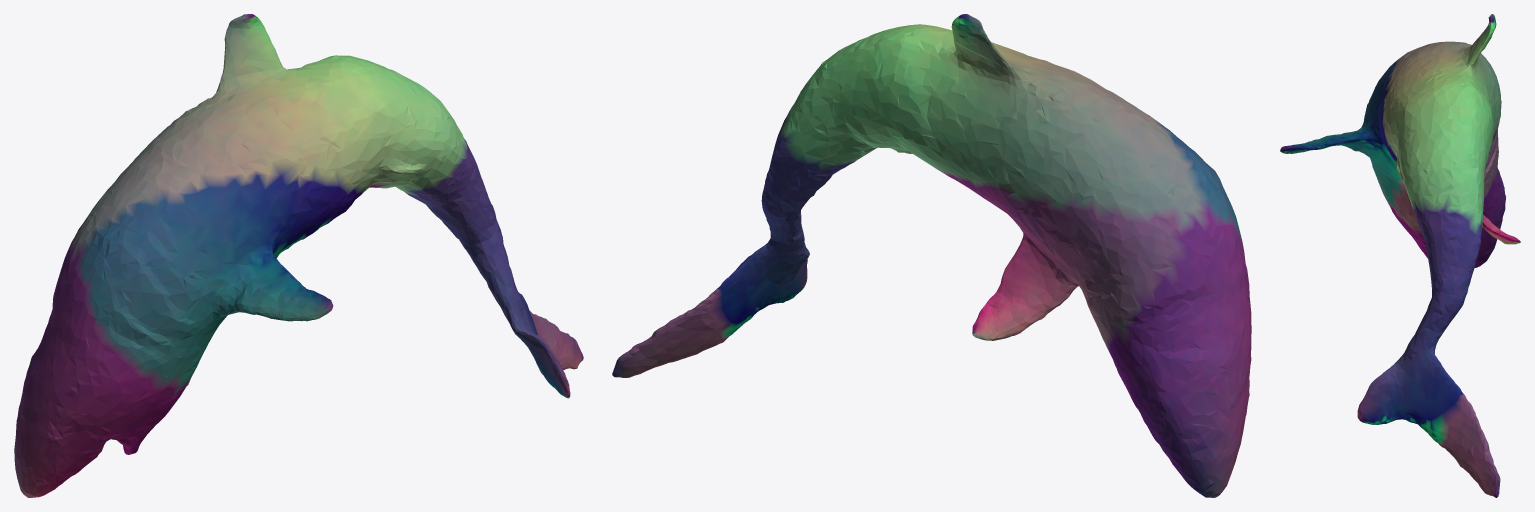
Rendered from shark-15.off.obj.
3 views of the same model, side by side, from view 1: azimuth 30°, elevation 25°; view 2: azimuth 150°, elevation 25°; view 3: azimuth 270°, elevation 25° (orthographic). The views are drawn at different scales.
Size of the model in its own units: 1.2 by 0.8496 by 0.5308.
